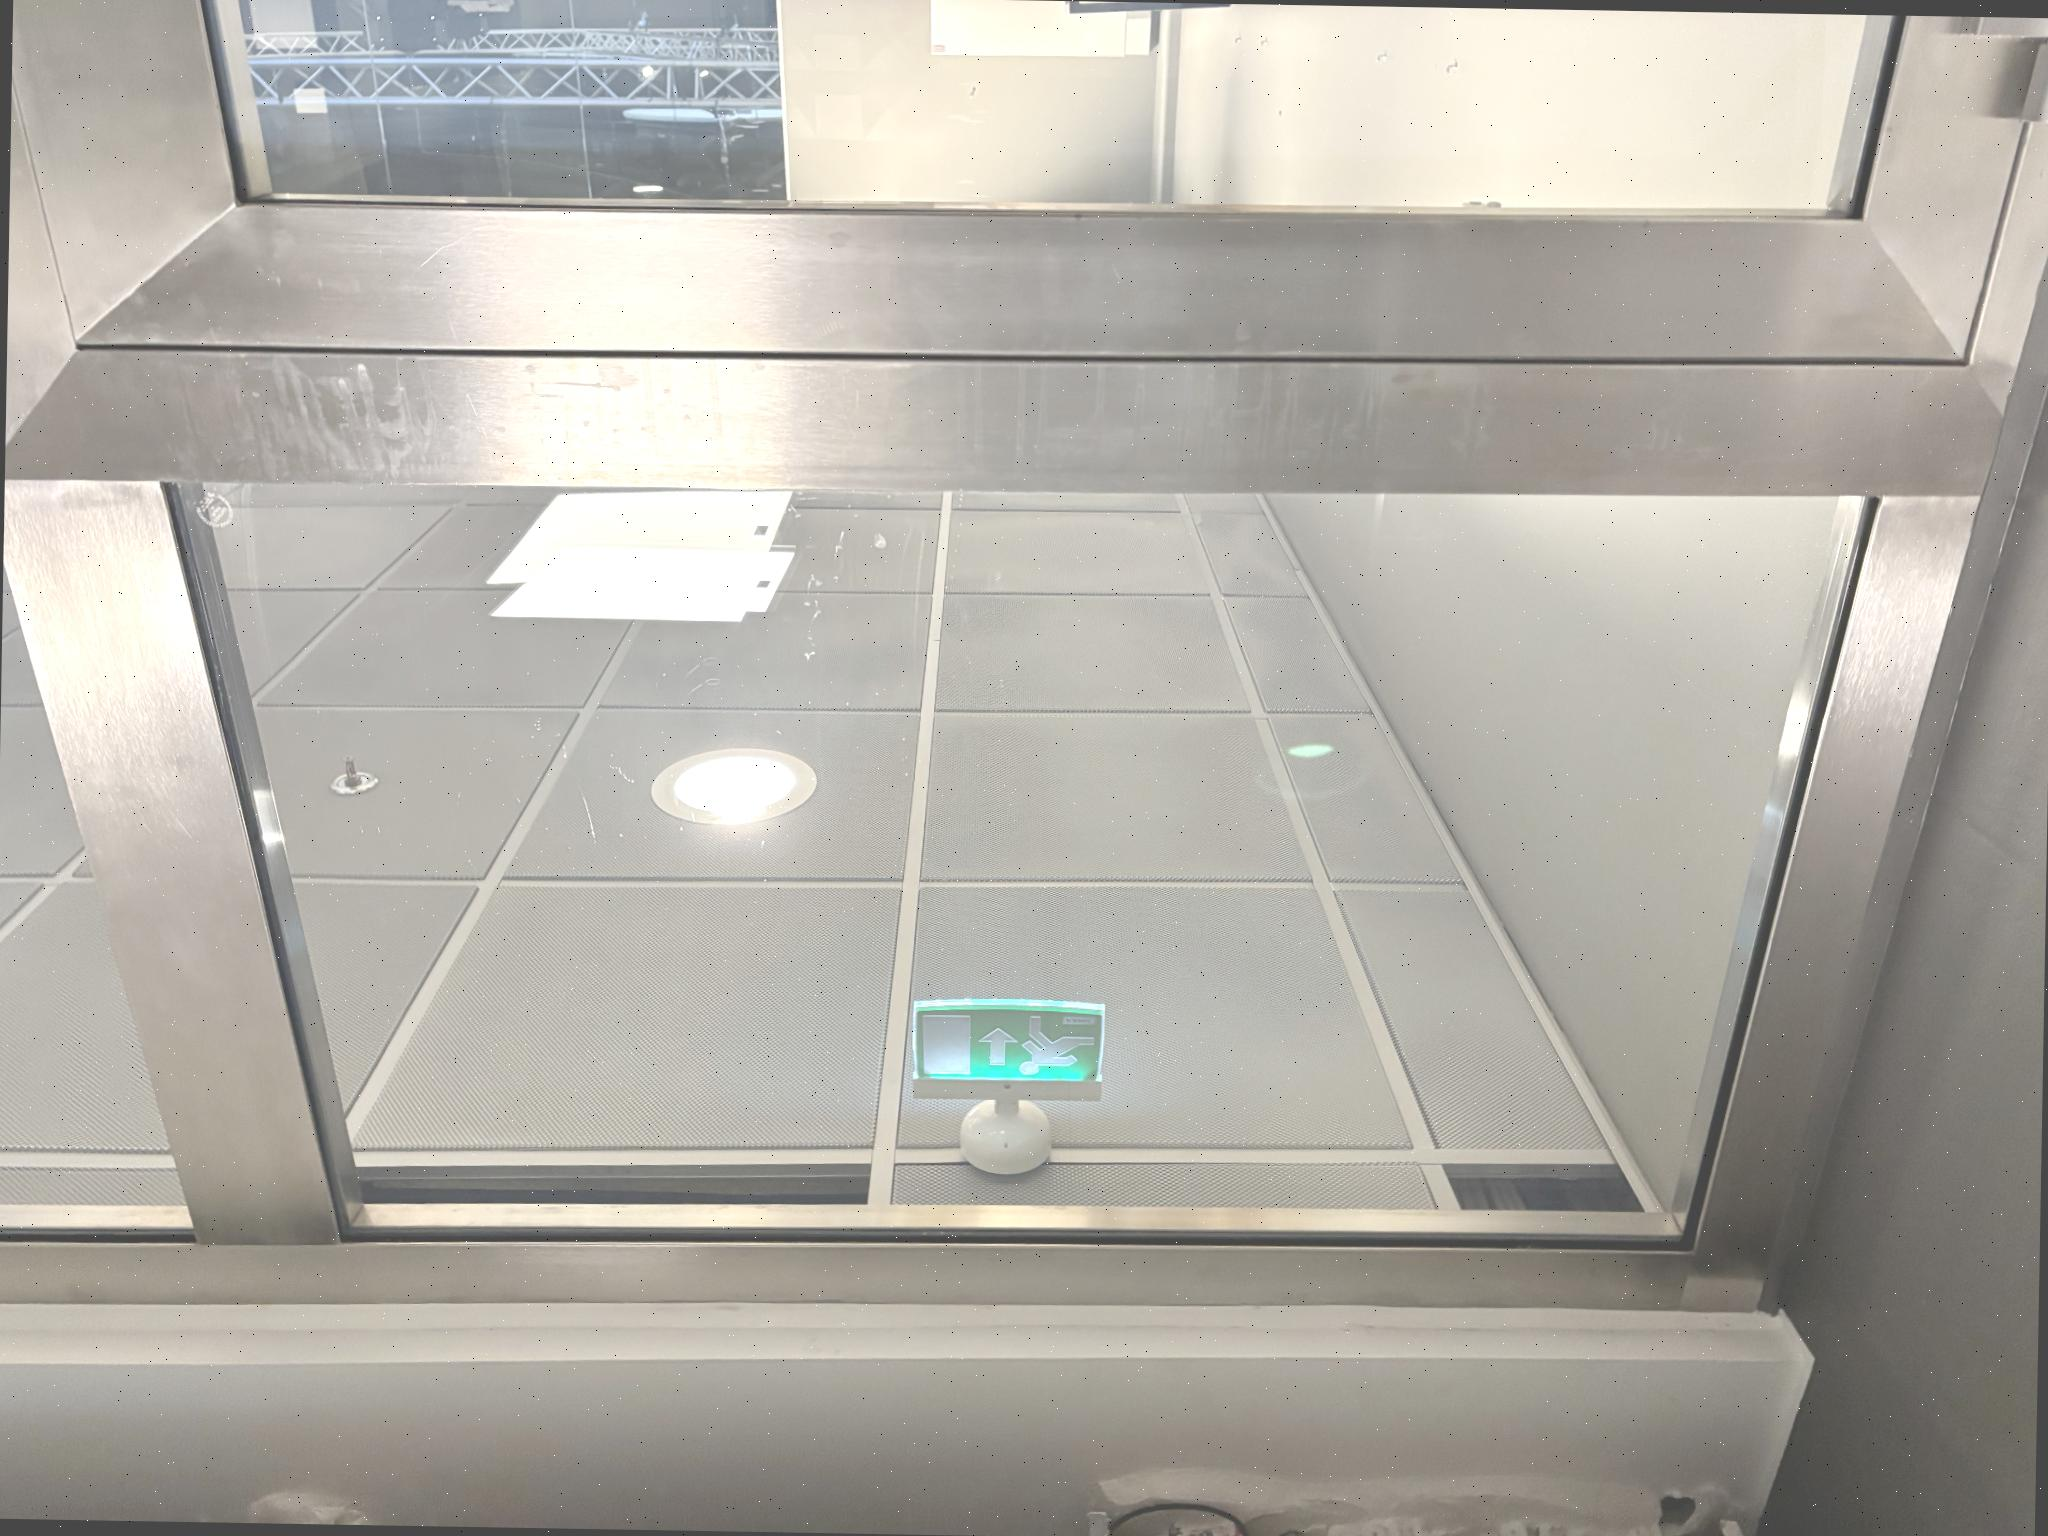exit_sign: (911, 1004, 1090, 1092)
